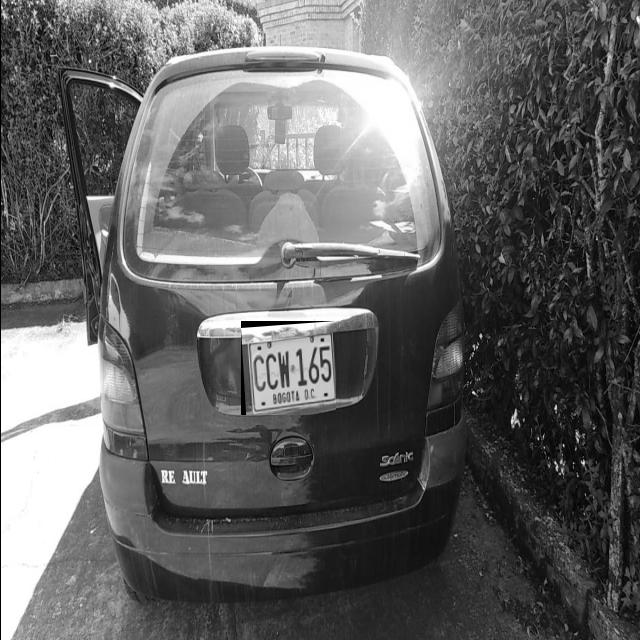plate: (240, 321, 335, 415)
